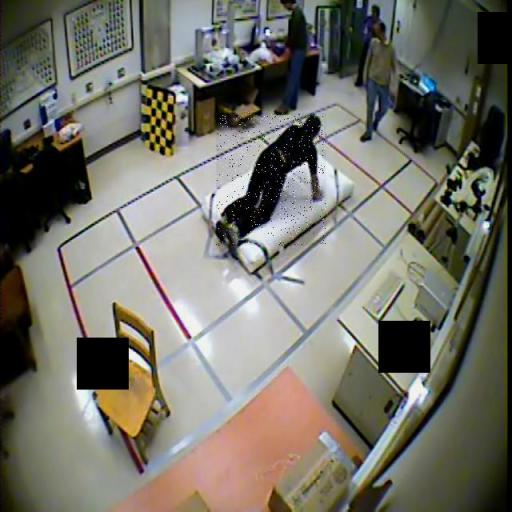Fall: (216, 113, 326, 246)
